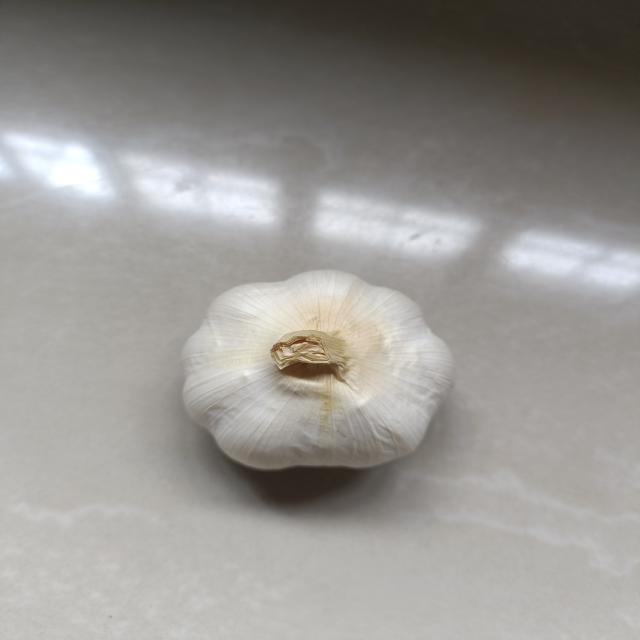garlic: (171, 266, 462, 479)
